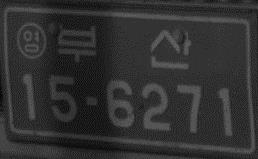-: (81, 93, 101, 110)
1: (214, 85, 237, 137), (19, 70, 41, 122)
2: (138, 81, 171, 134)
5: (45, 73, 79, 124)
6: (104, 77, 136, 130)
7: (174, 81, 205, 136)
부산_D: (55, 20, 194, 71)
영: (16, 20, 47, 60)
